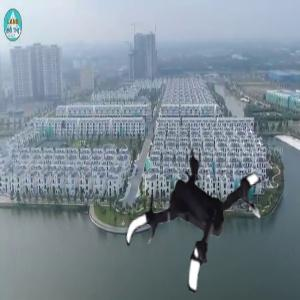drone: (119, 131, 284, 296)
